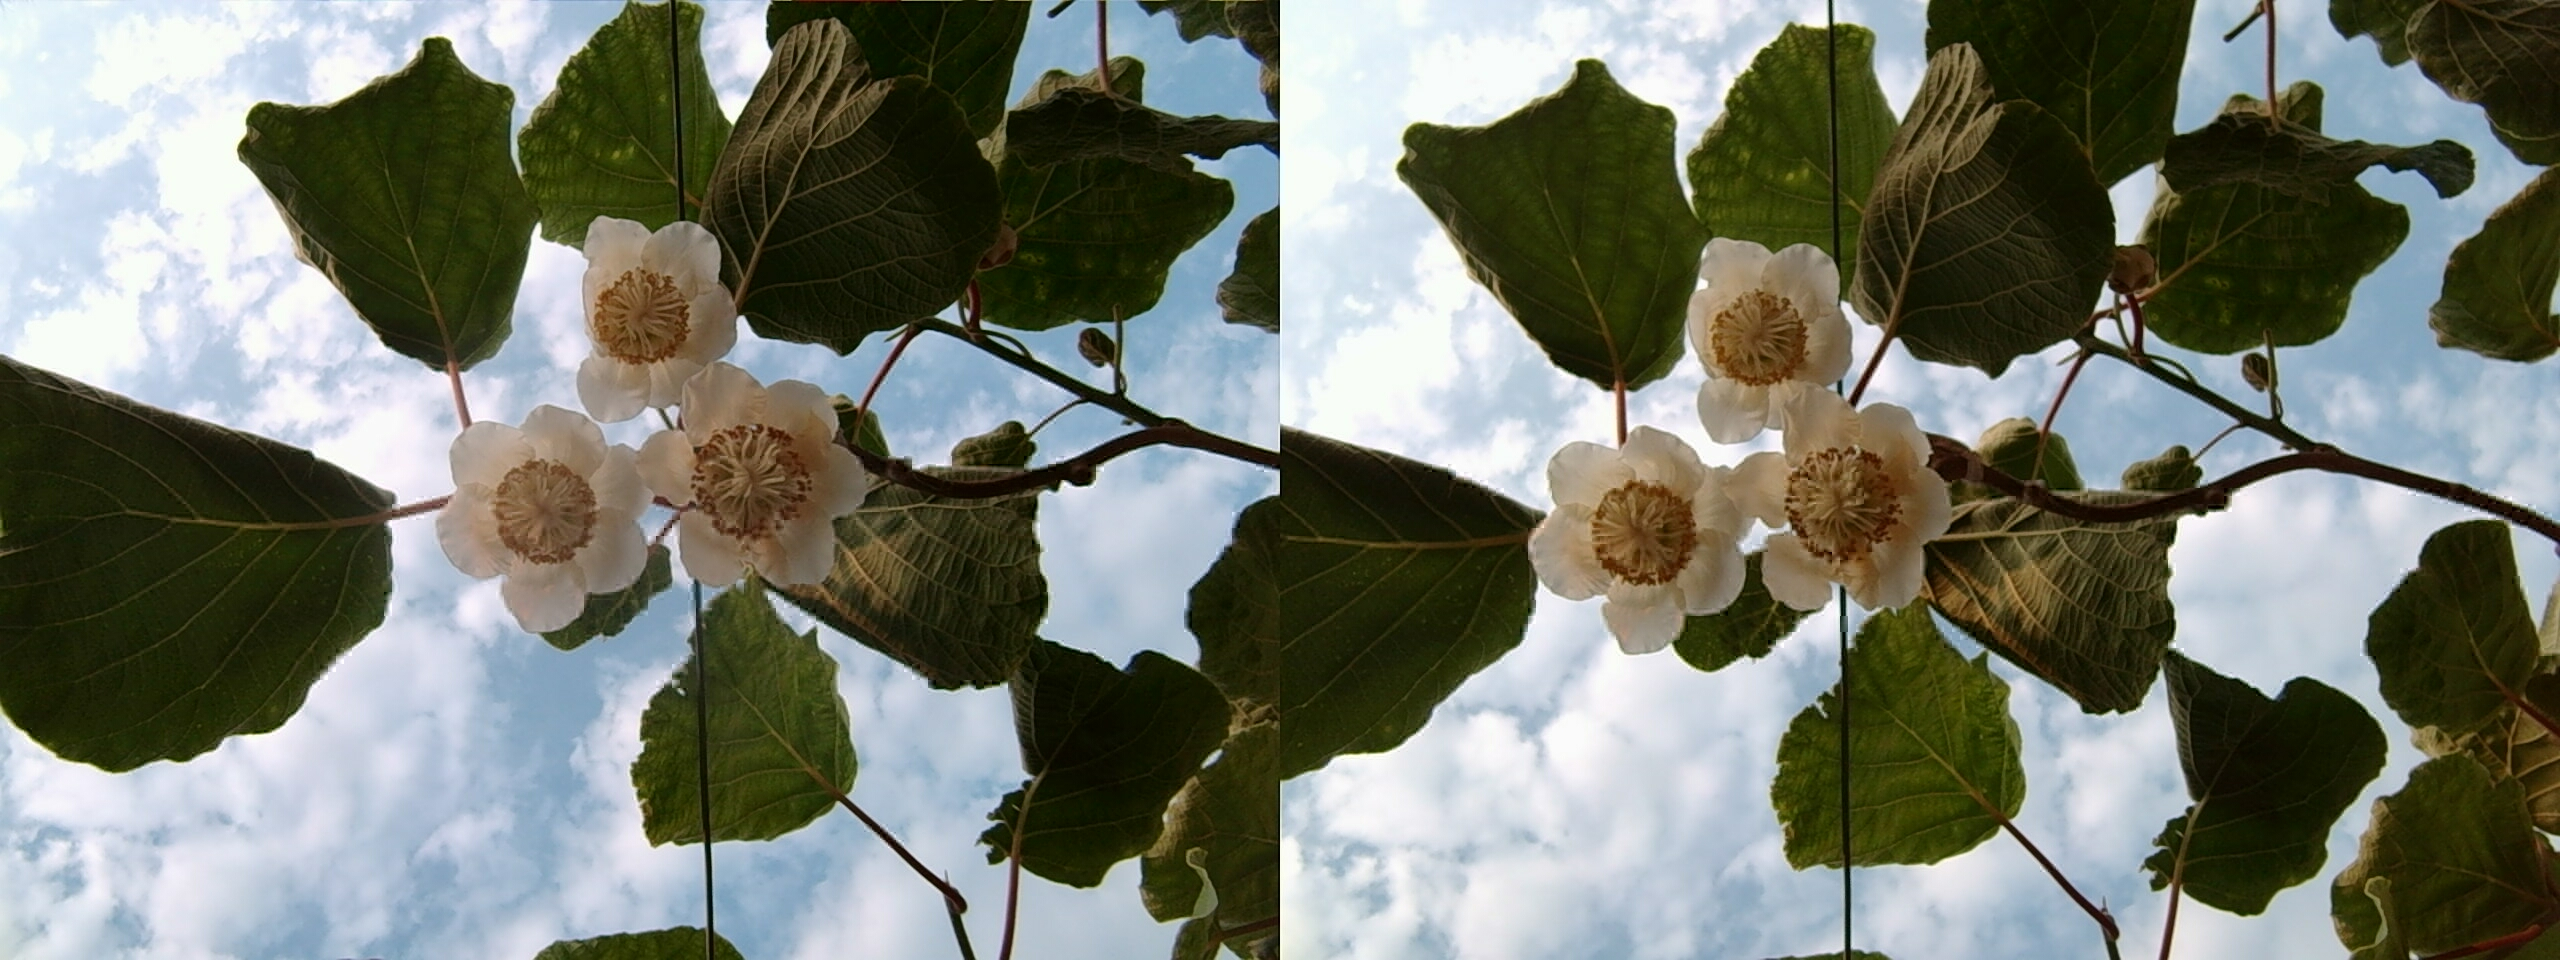flower: (426, 389, 664, 637), (1527, 416, 1768, 650), (638, 362, 860, 593), (1744, 385, 1949, 606), (568, 207, 740, 416), (1675, 229, 1855, 428)
